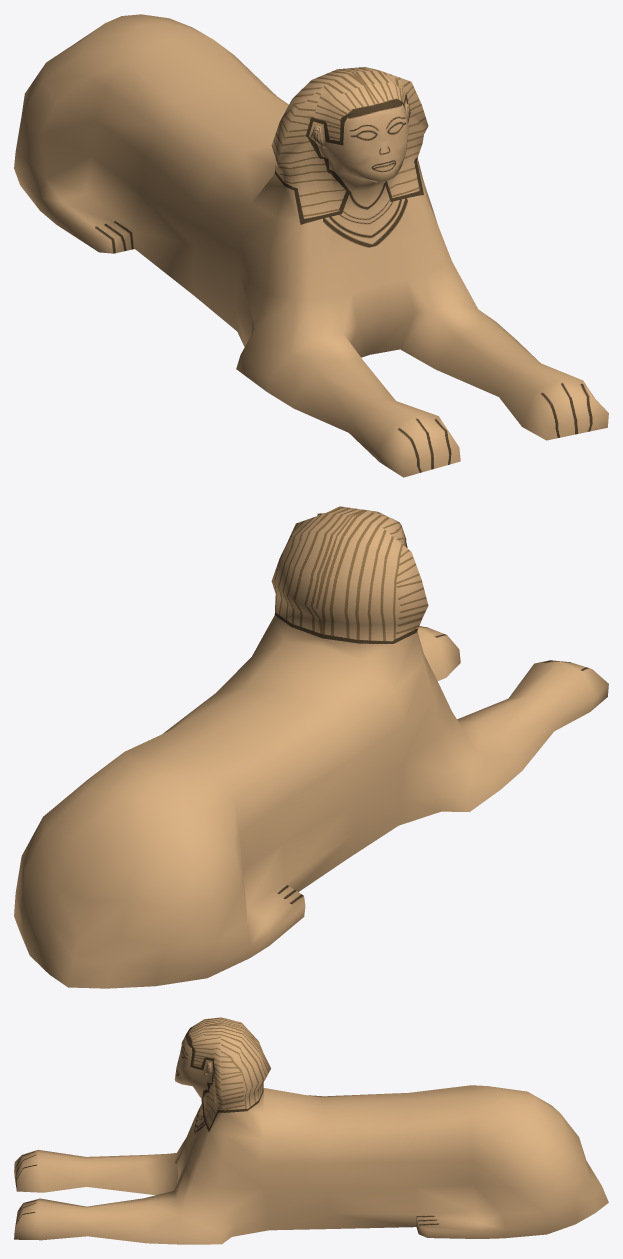
The model's file is sphynx.obj.
3 renders of one model, top to bottom at view 1: azimuth 30°, elevation 25°; view 2: azimuth 150°, elevation 25°; view 3: azimuth 270°, elevation 25°, orthographic. The views are drawn at different scales.
Bounding box in the file's own units: 11.43 × 12.6 × 37.
